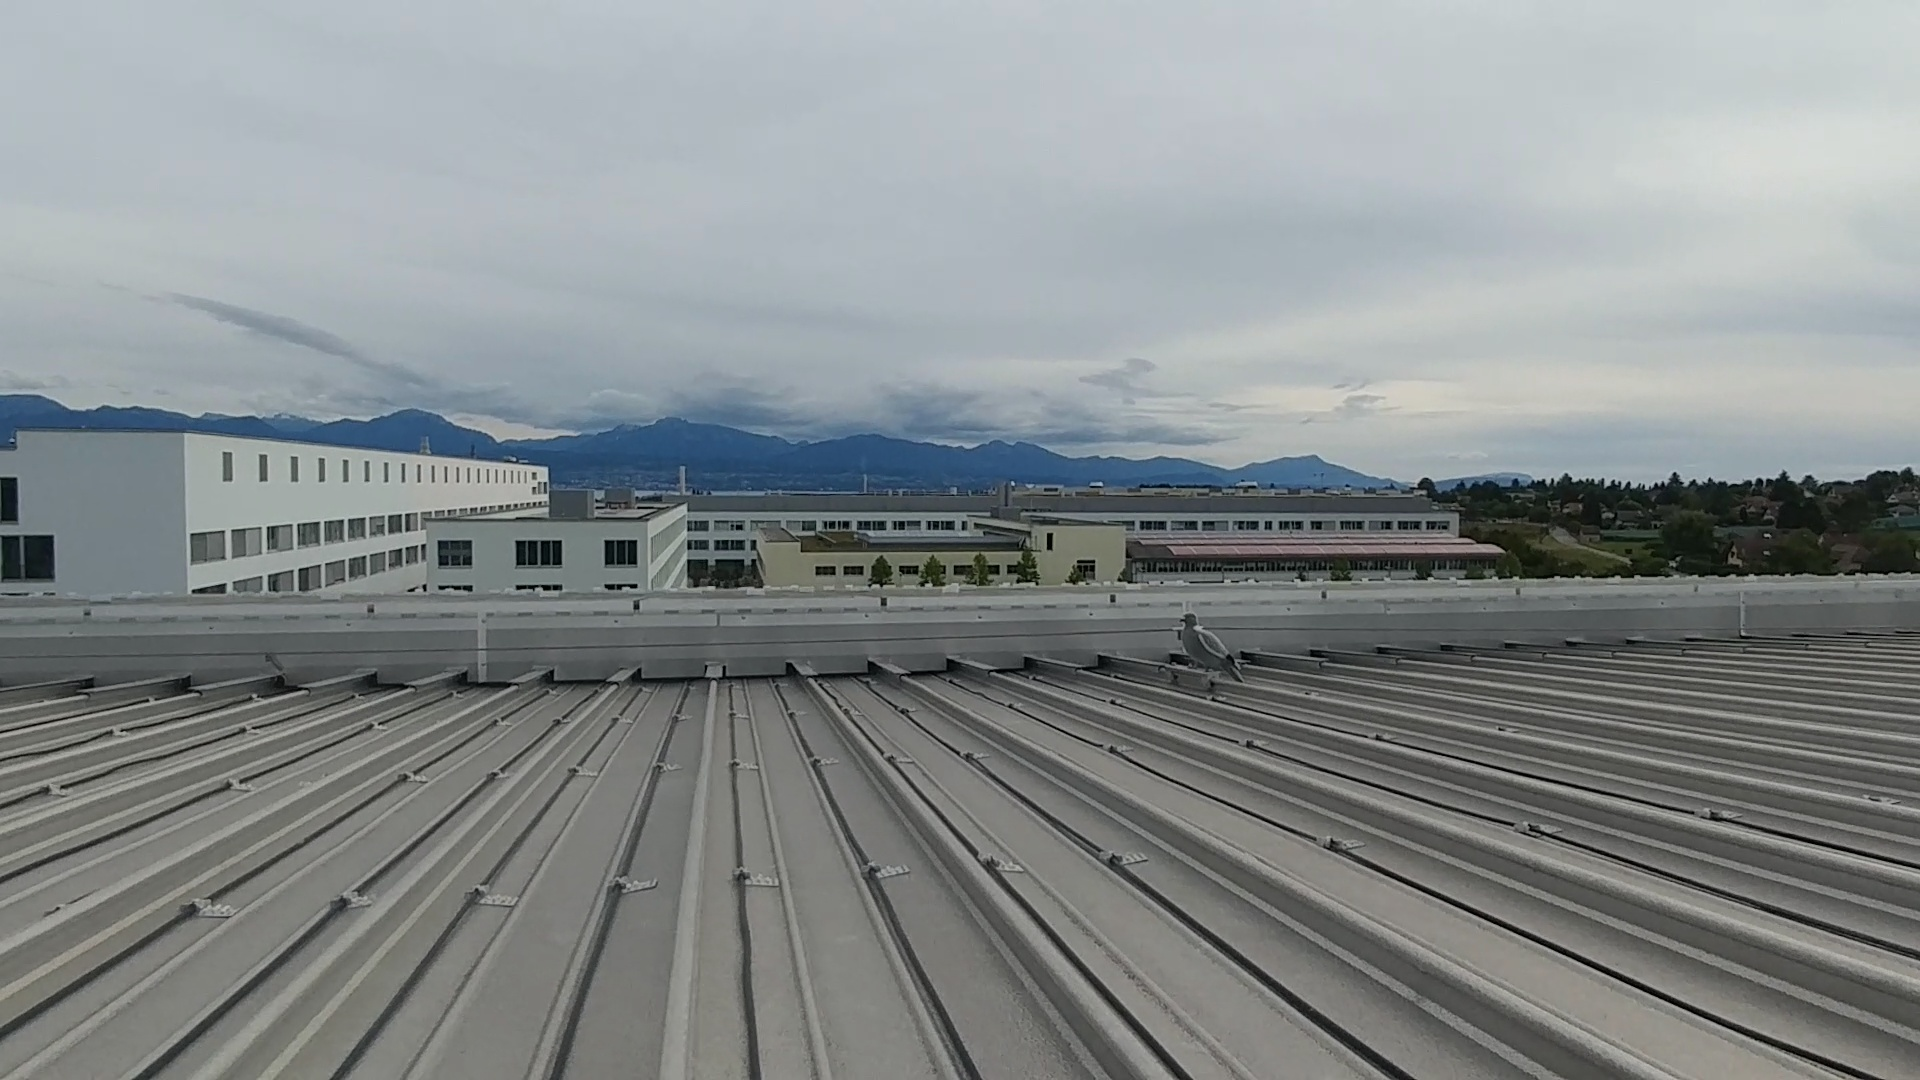Pigeon: (1176, 607, 1247, 683)
